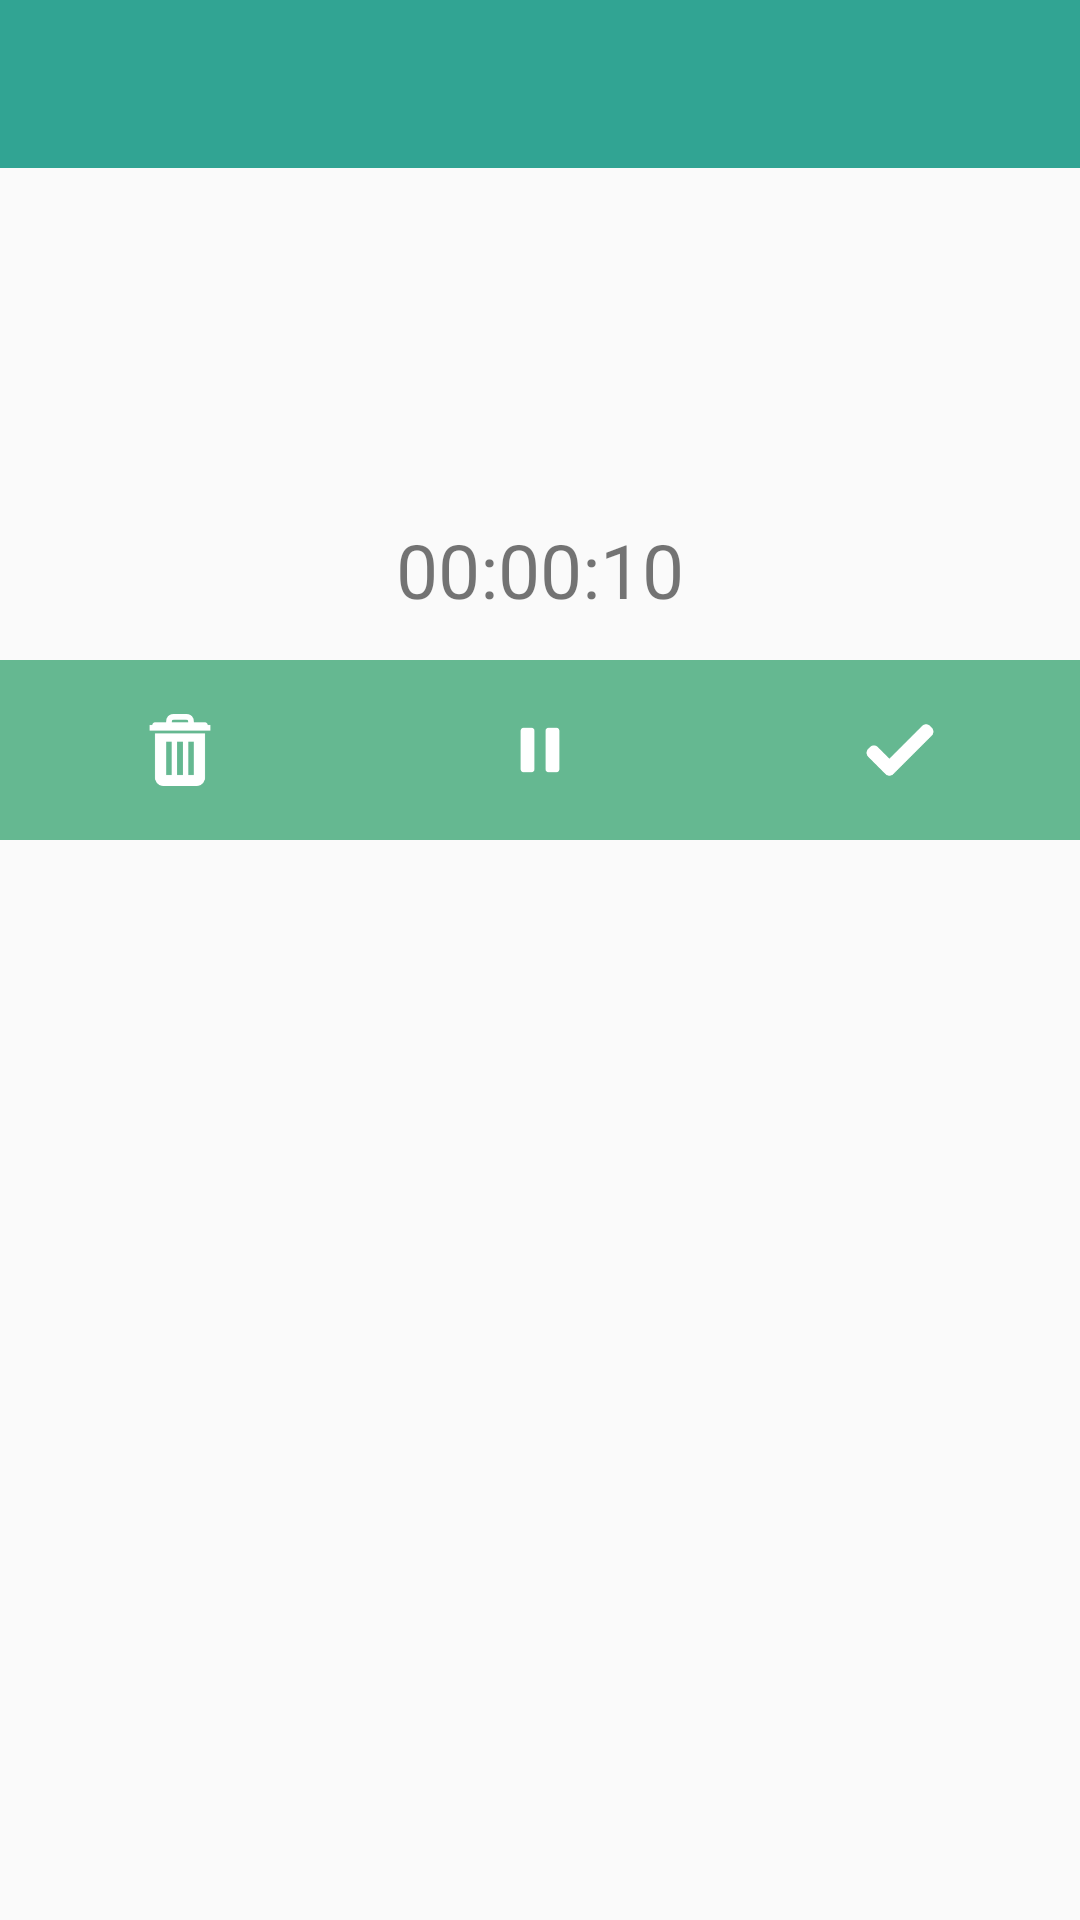

Where icons sit on this 1080×1920 app screen, as bbox(x1, y1, x2, y2):
done: bbox(866, 724, 934, 776)
pause: bbox(520, 727, 560, 773)
trash: bbox(149, 714, 211, 786)
